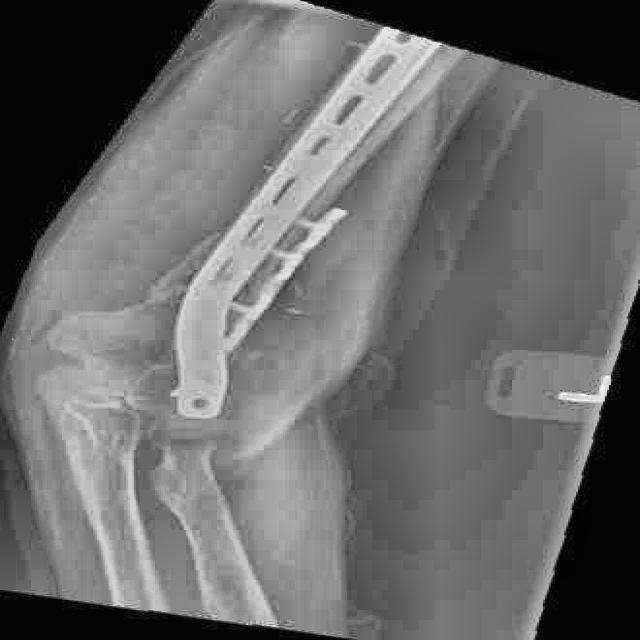elbow positive: (101, 240, 227, 334), (18, 303, 135, 388)
